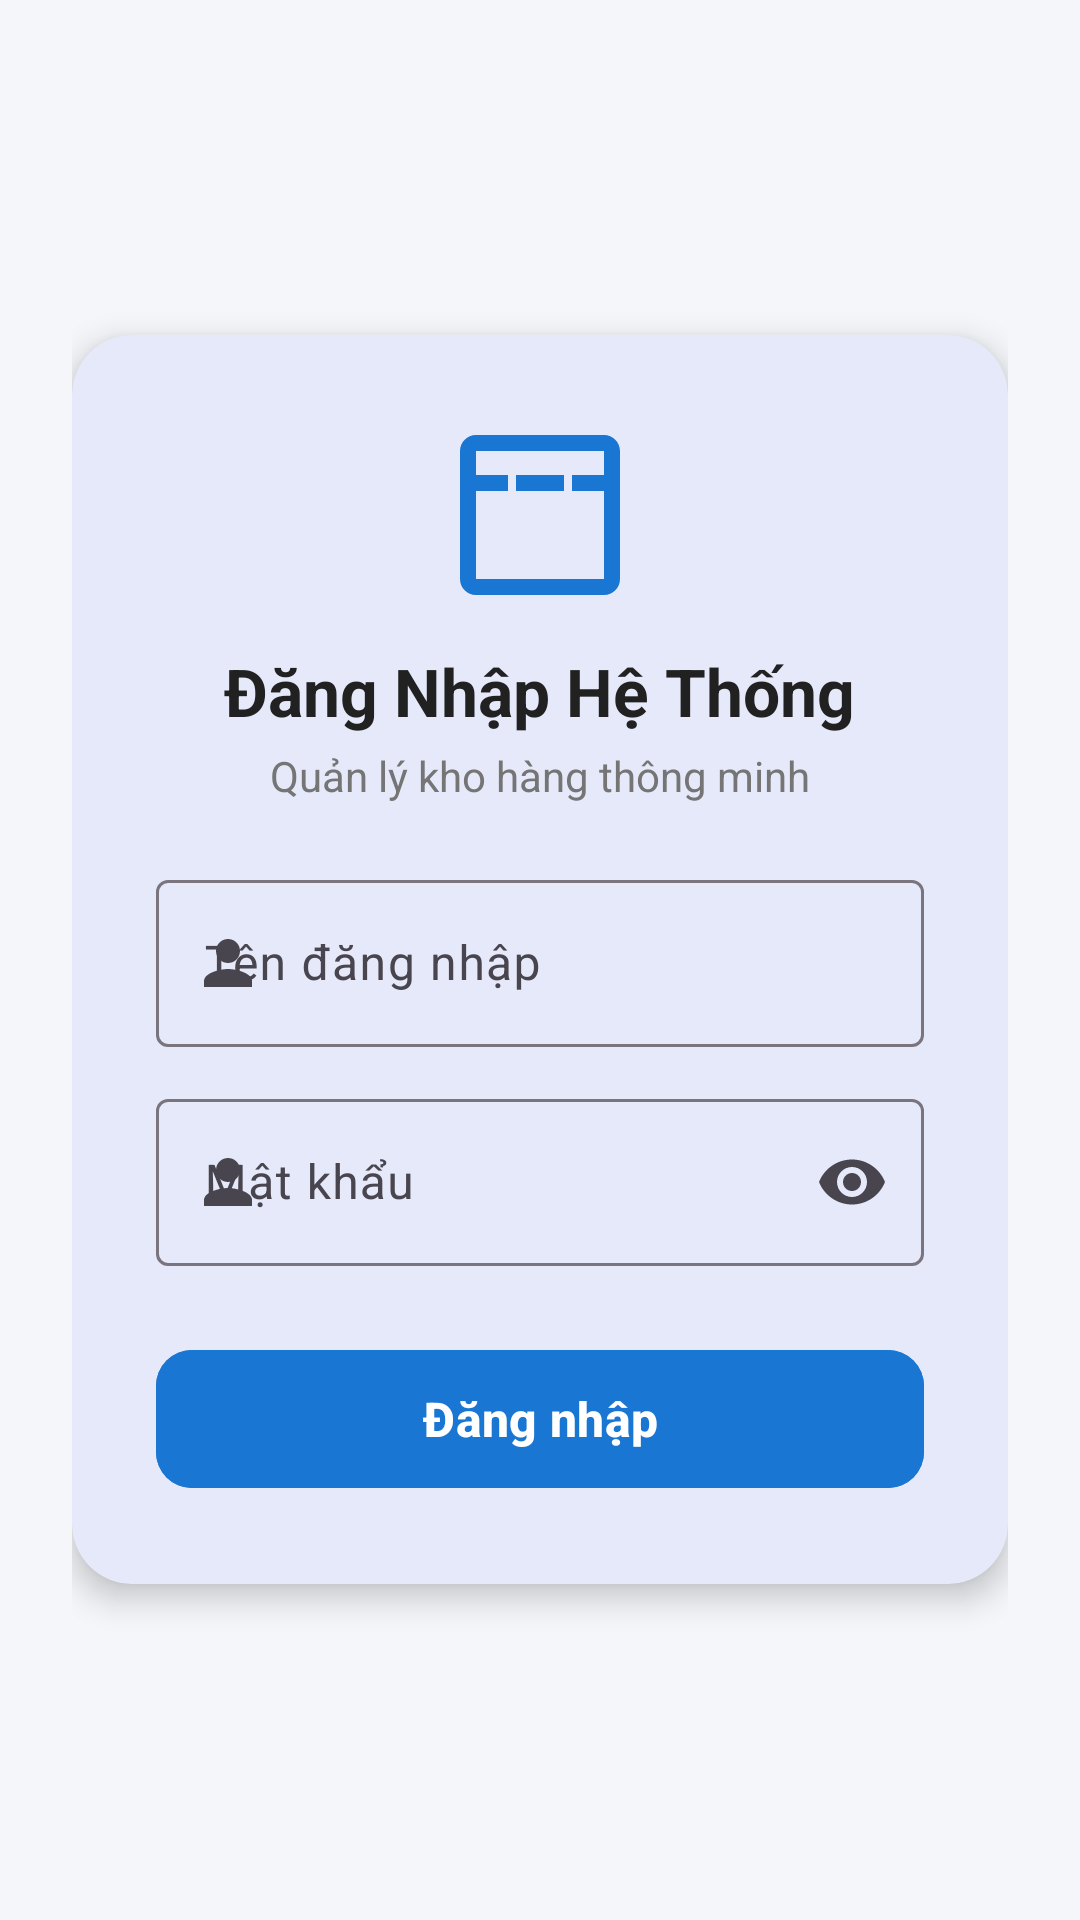

Named icons in this screenshot (1080 × 1920) and their bounding boxes, (x1, y1, x2, y2):
inventory: (460, 435, 620, 595)
